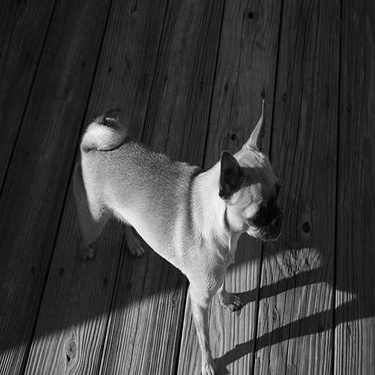dog: (52, 84, 289, 373)
